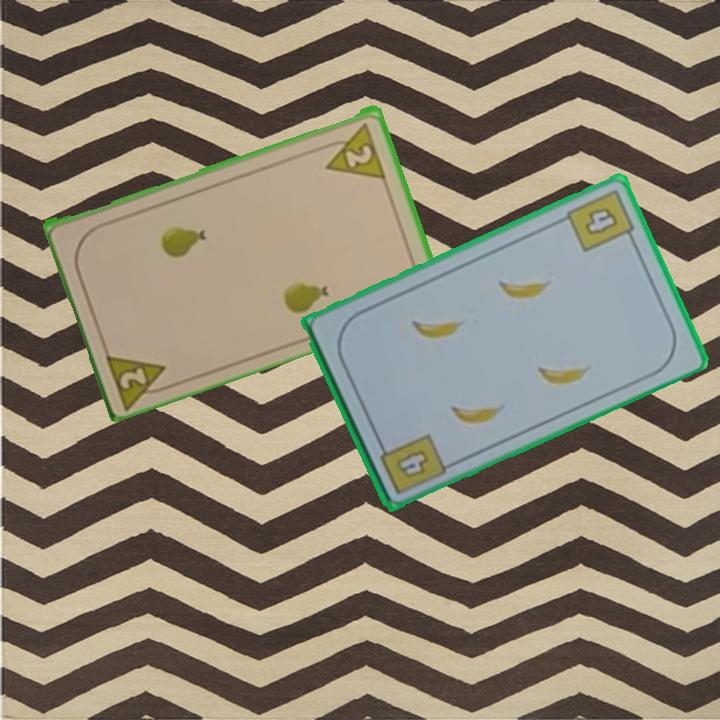2p: (101, 347, 177, 410), (317, 118, 389, 181)
4b: (562, 185, 639, 255), (374, 429, 447, 497)
